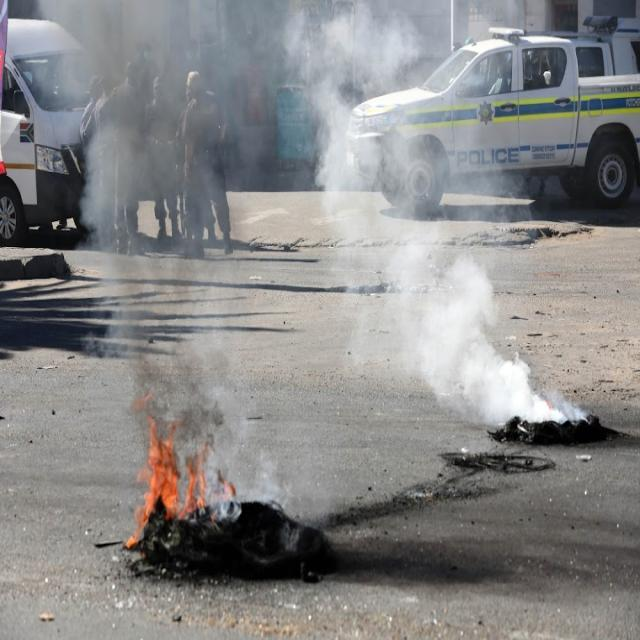Smoke: (345, 12, 486, 347), (112, 5, 232, 380), (458, 361, 544, 416)
